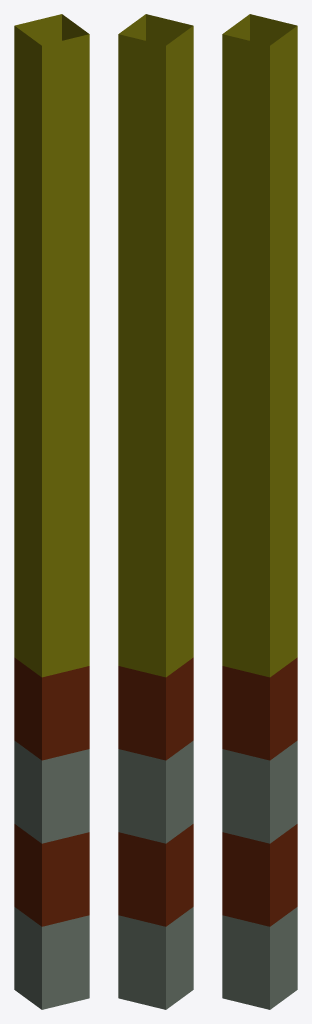
The model's file is obj_bell_rope_0.obj.
3 renders of one model, left to right at view 1: azimuth 30°, elevation 25°; view 2: azimuth 150°, elevation 25°; view 3: azimuth 330°, elevation 25°, orthographic.
Bounding box in the file's own units: 0.0938 × 1.81 × 0.0938.
